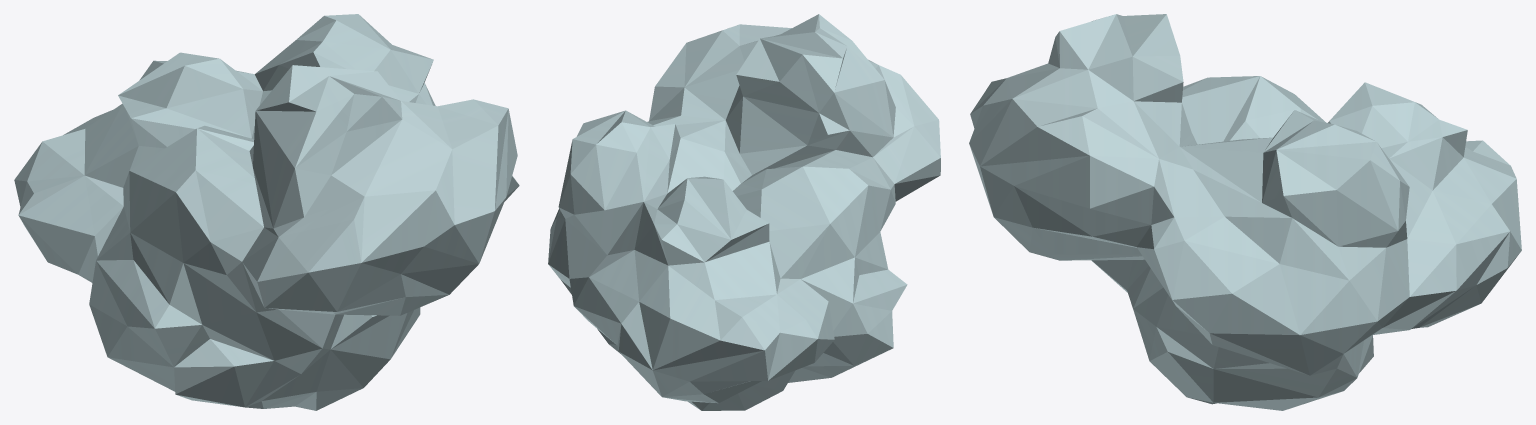
File: Cloud_2.fbx
3 renders of one model, left to right at view 1: azimuth 30°, elevation 25°; view 2: azimuth 150°, elevation 25°; view 3: azimuth 270°, elevation 25°, orthographic. The views are drawn at different scales.
Parts seen in each view (by area): view 1: Group57444; view 2: Group57444; view 3: Group57444.
Boxes of the visible parts, x1,y1,x2,y2 form: Group57444: (14, 14, 519, 410); Group57444: (548, 14, 940, 410); Group57444: (969, 14, 1521, 410).
Size of the model in its own units: 998 by 953 by 1270.
